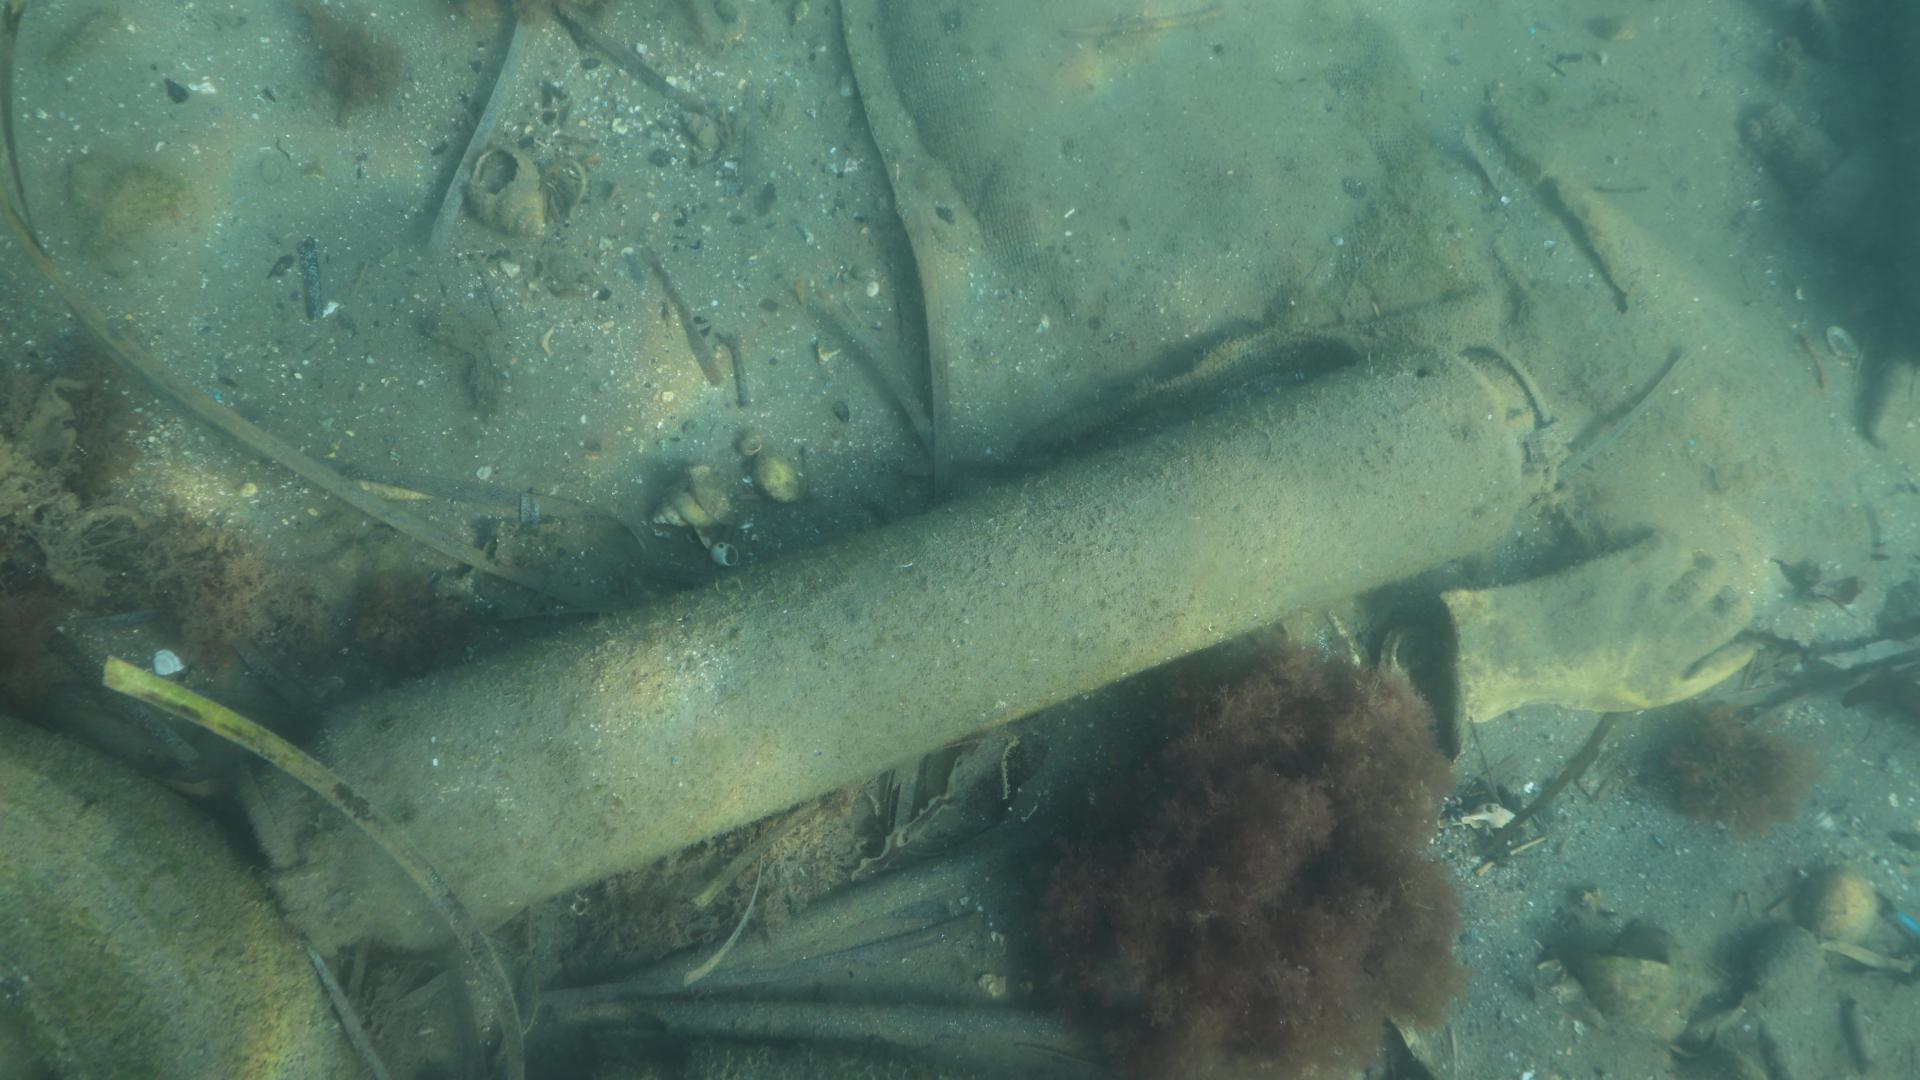eel fish trap: (244, 340, 1557, 959)
